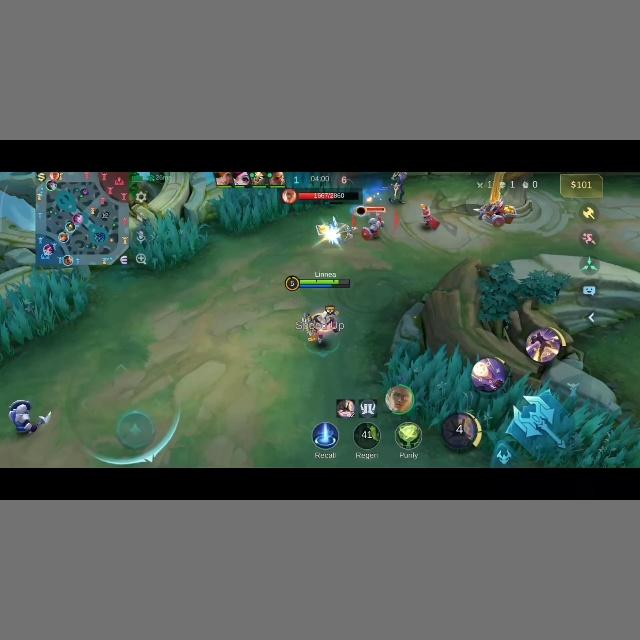hp_enemy: (296, 191, 360, 202)
hp_self: (283, 275, 353, 290), (299, 282, 347, 288)
minion_ally: (8, 398, 51, 434), (338, 226, 356, 243)
minion_enemy: (476, 200, 517, 227), (360, 213, 384, 240), (419, 202, 440, 231), (375, 212, 384, 228)
